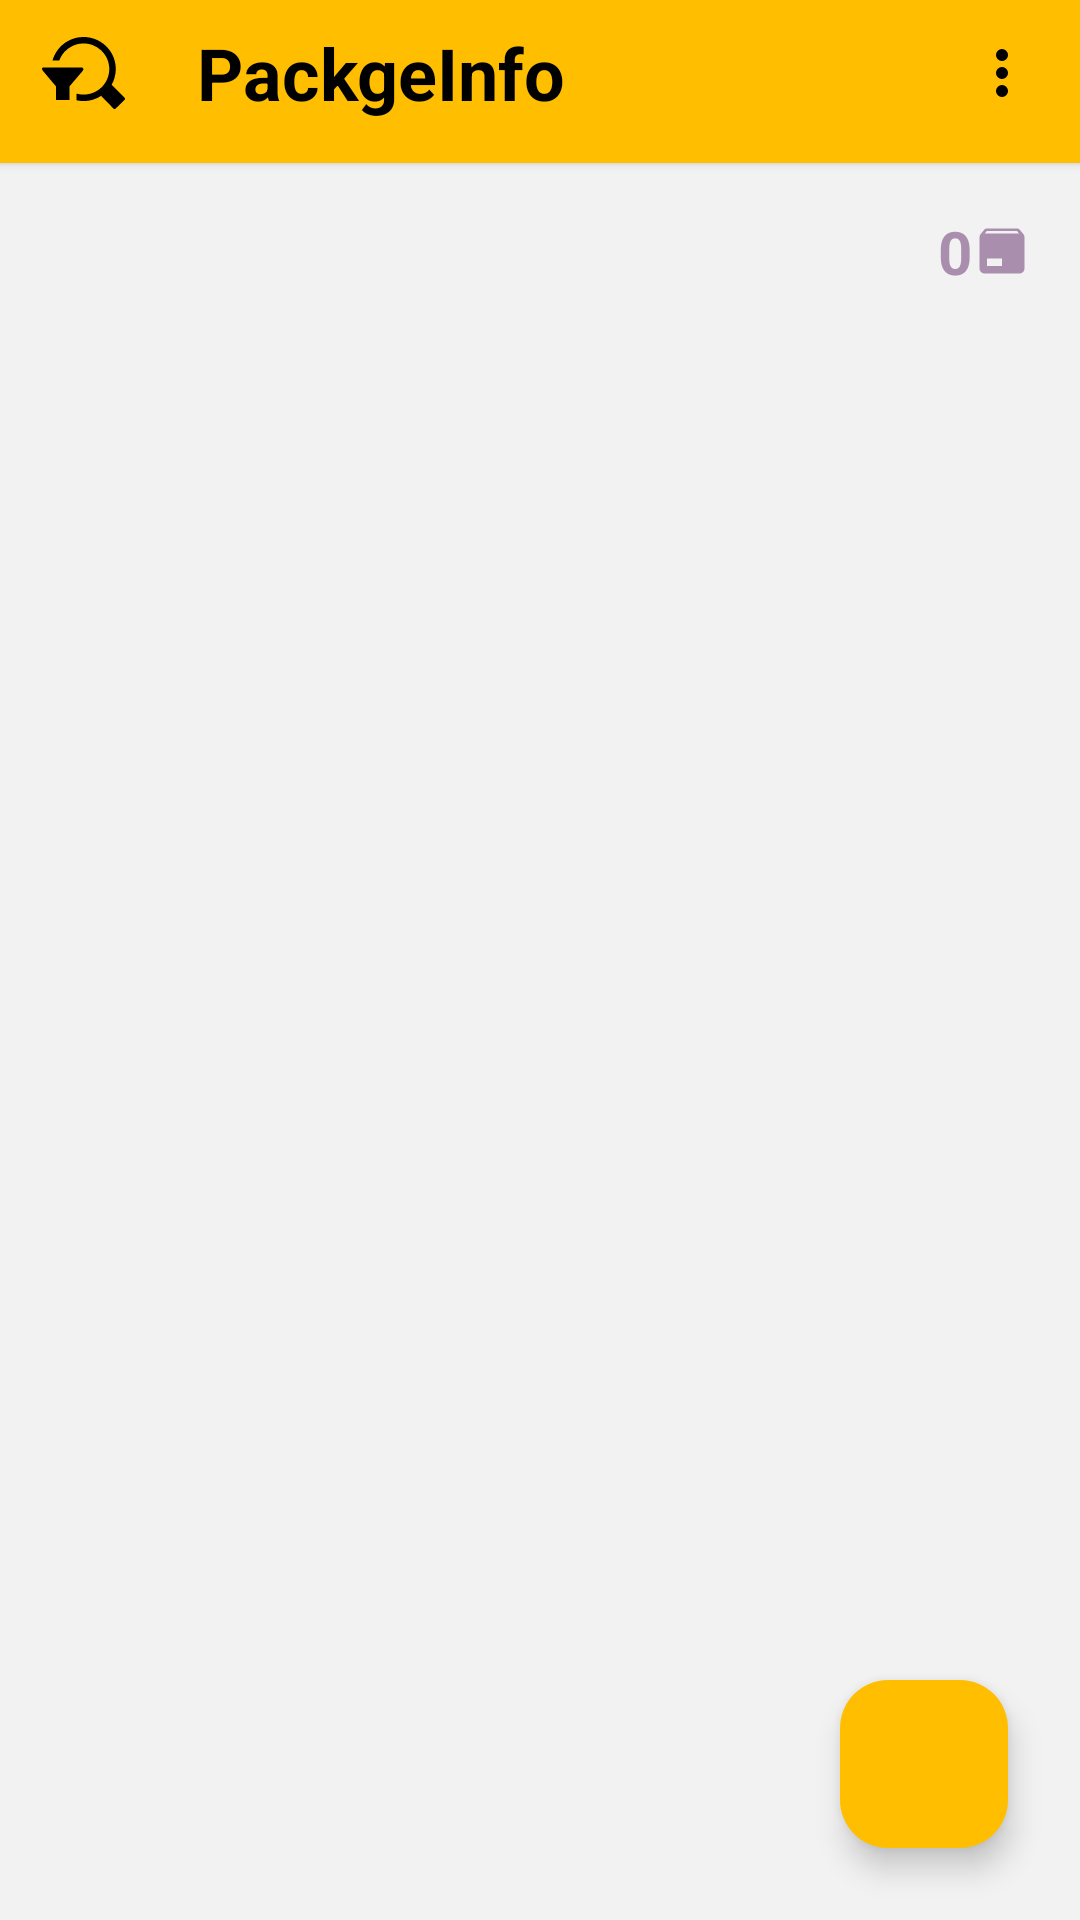

Icons on this 1080w x 1920h Android screen, each with the point to tap as (x,y):
dots menu: (1002,73)
filter: (83,73)
